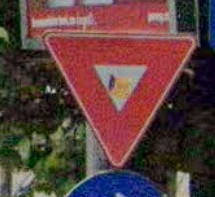cedeaza: (40, 28, 203, 173)
